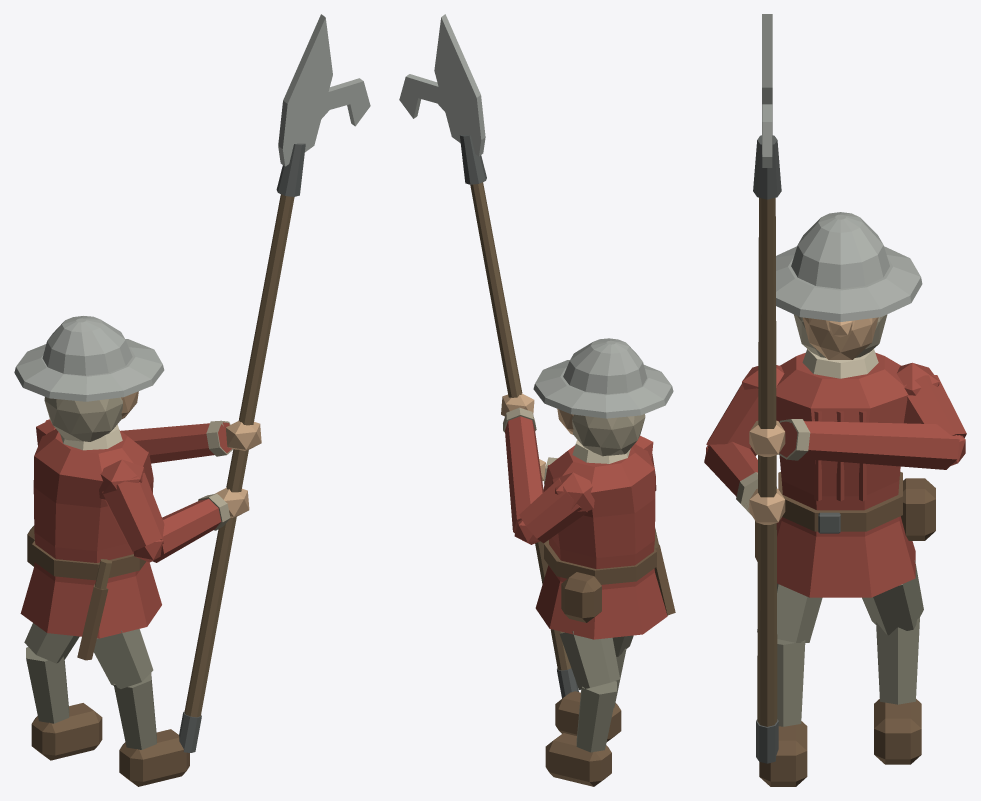
The model's file is infantry_polearm.glb.
3 views of the same model, side by side, from view 1: azimuth 30°, elevation 25°; view 2: azimuth 150°, elevation 25°; view 3: azimuth 270°, elevation 25° (orthographic). The views are drawn at different scales.
Visible parts, largest first — view 1: infantry_polearm_team_cloth, infantry_polearm_steel, infantry_polearm_leather, infantry_polearm_hose, infantry_polearm_oak_dark, infantry_polearm_padded_linen, infantry_polearm_skin, infantry_polearm_iron, infantry_polearm_linen; view 2: infantry_polearm_team_cloth, infantry_polearm_steel, infantry_polearm_leather, infantry_polearm_hose, infantry_polearm_oak_dark, infantry_polearm_padded_linen, infantry_polearm_iron, infantry_polearm_skin, infantry_polearm_linen; view 3: infantry_polearm_team_cloth, infantry_polearm_steel, infantry_polearm_leather, infantry_polearm_hose, infantry_polearm_oak_dark, infantry_polearm_skin, infantry_polearm_iron, infantry_polearm_padded_linen, infantry_polearm_linen.
Part boxes in pixels (box(x1,y1,x2,y2)): infantry_polearm_team_cloth: box(20, 419, 231, 638); infantry_polearm_steel: box(14, 14, 370, 401); infantry_polearm_leather: box(27, 525, 189, 786); infantry_polearm_hose: box(24, 623, 156, 749); infantry_polearm_oak_dark: box(95, 194, 294, 717); infantry_polearm_padded_linen: box(44, 397, 233, 530); infantry_polearm_skin: box(121, 391, 261, 517); infantry_polearm_iron: box(179, 143, 305, 752); infantry_polearm_linen: box(60, 424, 122, 450); infantry_polearm_team_cloth: box(505, 416, 667, 639); infantry_polearm_steel: box(399, 14, 673, 418); infantry_polearm_leather: box(544, 540, 675, 786); infantry_polearm_hose: box(559, 631, 633, 752); infantry_polearm_oak_dark: box(470, 182, 658, 670); infantry_polearm_padded_linen: box(503, 407, 645, 484); infantry_polearm_iron: box(460, 135, 578, 698); infantry_polearm_skin: box(501, 393, 573, 481); infantry_polearm_linen: box(572, 439, 630, 463); infantry_polearm_team_cloth: box(704, 352, 966, 597); infantry_polearm_steel: box(762, 14, 922, 321); infantry_polearm_leather: box(755, 472, 935, 786); infantry_polearm_hose: box(757, 560, 923, 726); infantry_polearm_oak_dark: box(757, 197, 777, 726); infantry_polearm_skin: box(749, 317, 878, 524); infantry_polearm_iron: box(753, 135, 840, 763); infantry_polearm_padded_linen: box(736, 314, 887, 514); infantry_polearm_linen: box(802, 349, 878, 378).
Size of the model in its own units: 1.34 by 2.96 by 0.8254.
